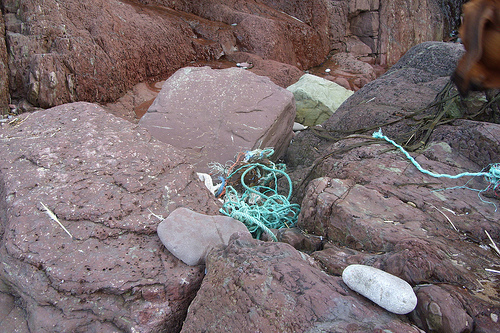litter: (207, 148, 301, 238), (371, 129, 499, 191)
